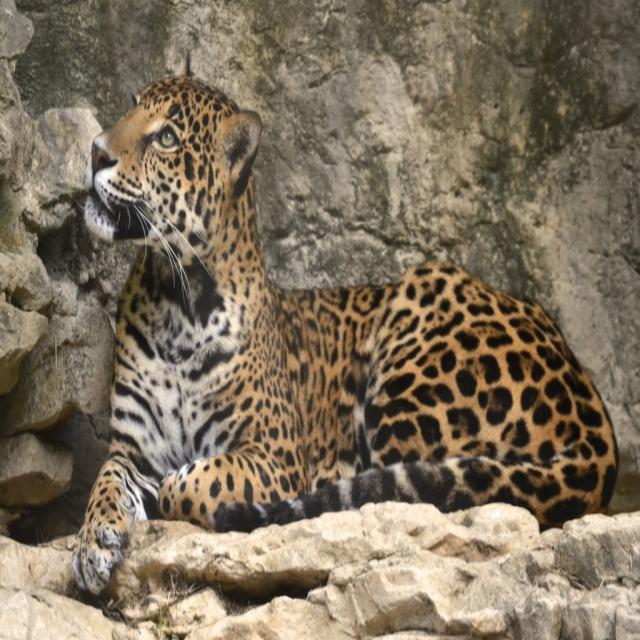Cheetah: (65, 64, 626, 604)
